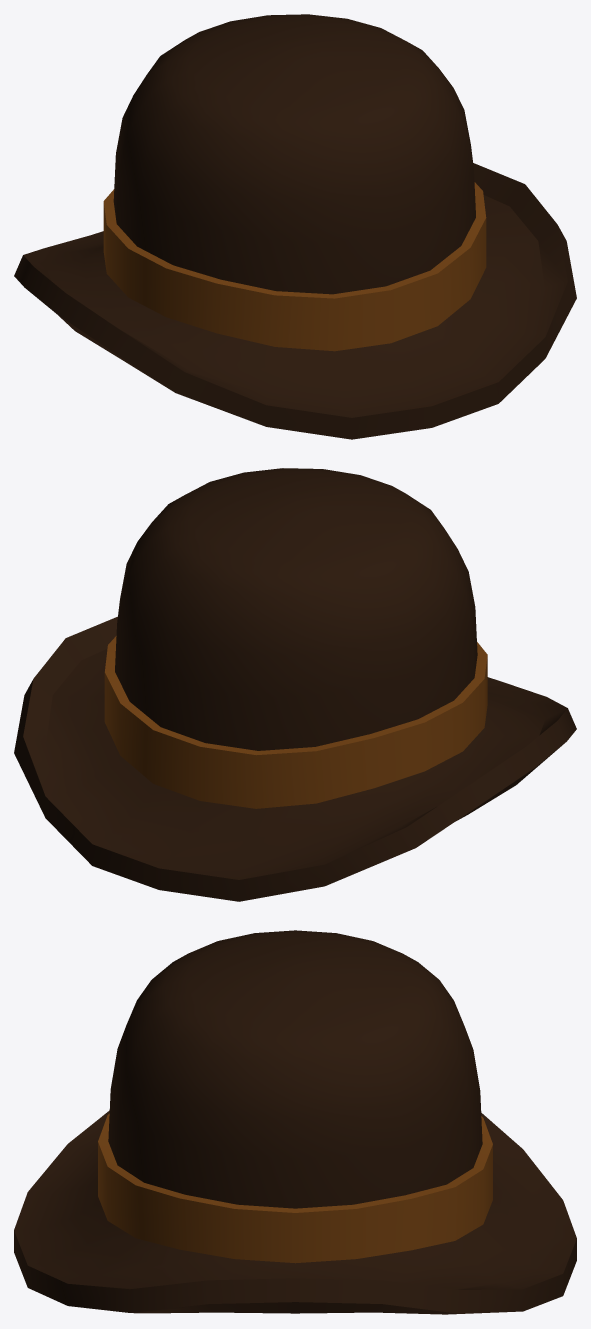
The model's file is Bowlerhat.fbx.
The picture shows the model from 3 angles, top to bottom: view 1: azimuth 30°, elevation 25°; view 2: azimuth 150°, elevation 25°; view 3: azimuth 270°, elevation 25°; orthographic projection. The views are drawn at different scales.
Visible parts, largest first — view 1: Bowlerhat; view 2: Bowlerhat; view 3: Bowlerhat.
Boxes of the visible parts, x1=… form: Bowlerhat: x1=14, y1=14, x2=576, y2=439; Bowlerhat: x1=14, y1=468, x2=576, y2=901; Bowlerhat: x1=14, y1=930, x2=576, y2=1314.
Size of the model in its own units: 30.26 by 17.47 by 30.09.
